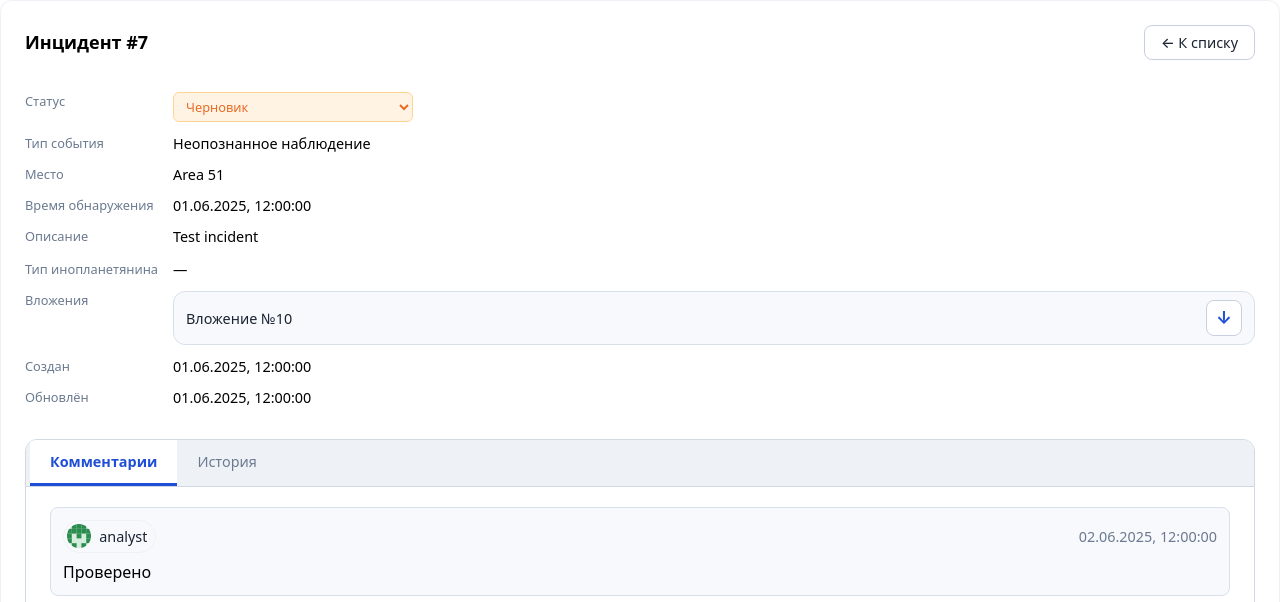
Scenario: IncidentDetailPage › loads comments on mount and history lazily on tab switch
Expected: the text "analyst" is shown, x1=99 y1=527 x2=147 y2=546
Expected: the text "Проверено" is shown, x1=63 y1=560 x2=151 y2=582
Click the tab "История": (227,463) x1=177 y1=440 x2=277 y2=486
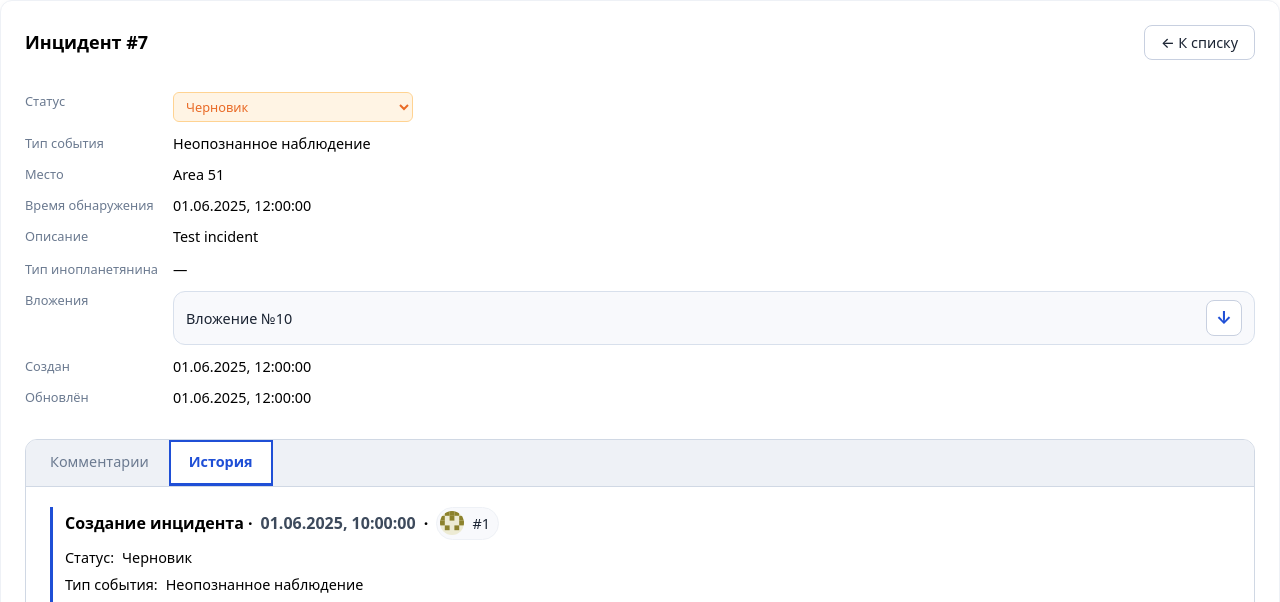
Now the text "Создание инцидента · 01.06.2025, 10:00:00 · #1" is shown, box x1=65 y1=507 x2=499 y2=540
